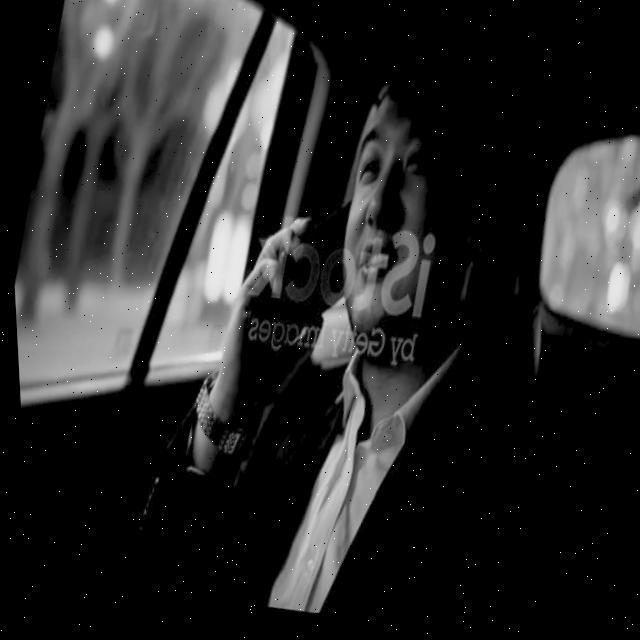PhoneCall: (254, 196, 360, 362)
